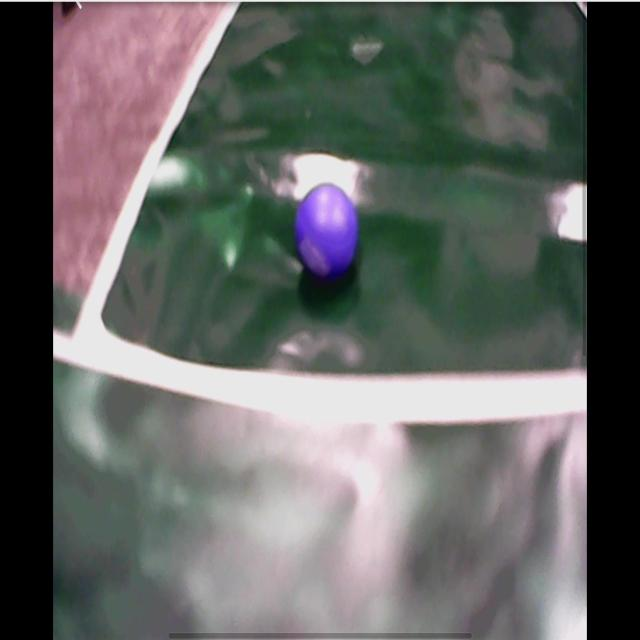ball: (297, 182, 359, 276)
